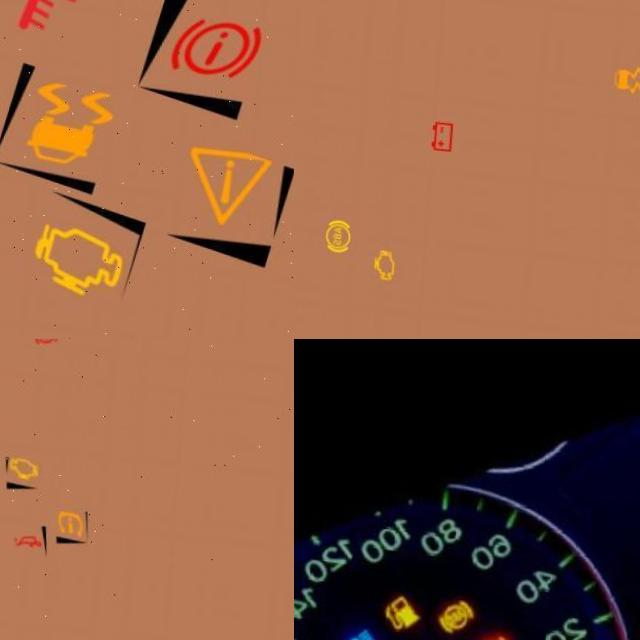Low fuel level: (382, 572, 429, 623)
